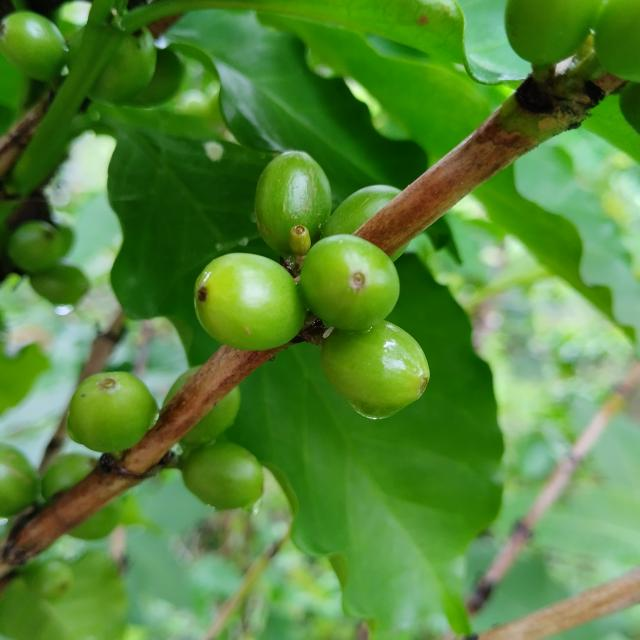green: (194, 253, 306, 351), (321, 321, 430, 419), (299, 234, 400, 331), (299, 234, 400, 331), (299, 234, 400, 331), (255, 150, 332, 255), (255, 150, 332, 255), (66, 372, 157, 453), (506, 0, 602, 65), (181, 442, 264, 511), (322, 184, 401, 237), (181, 387, 240, 446), (163, 366, 200, 406)
